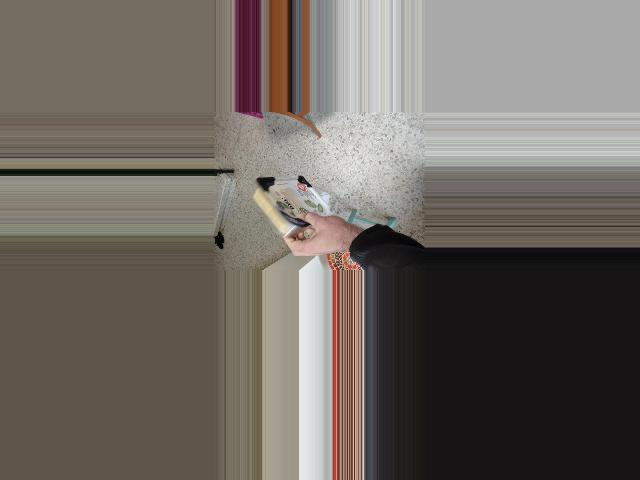cheese: (233, 151, 326, 262)
